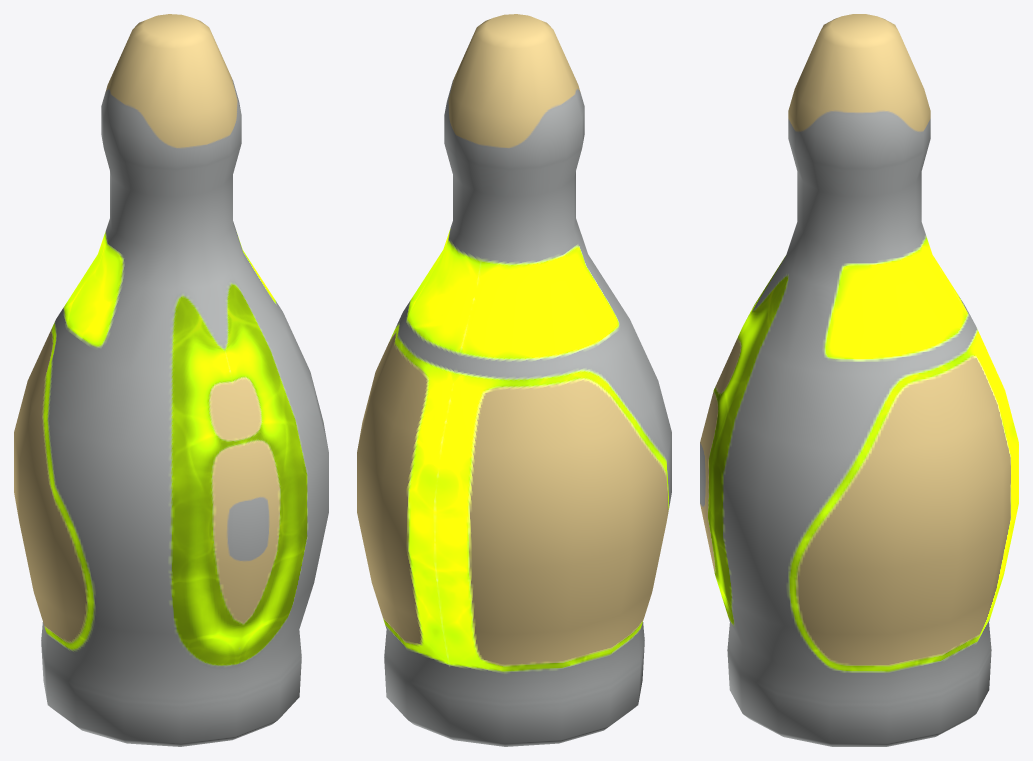
File: BarBottle01_1.FBX
3 views of the same model, side by side, from view 1: azimuth 30°, elevation 25°; view 2: azimuth 150°, elevation 25°; view 3: azimuth 270°, elevation 25° (orthographic).
Parts seen in each view (by area): view 1: BarBottle01_1; view 2: BarBottle01_1; view 3: BarBottle01_1.
Part boxes in pixels (x1,y1,x2,y2): BarBottle01_1: (14,14,328,746); BarBottle01_1: (357,14,671,746); BarBottle01_1: (700,14,1018,746).
Size of what is drawn, in the model's own units: 0.1126 by 0.268 by 0.1155.
